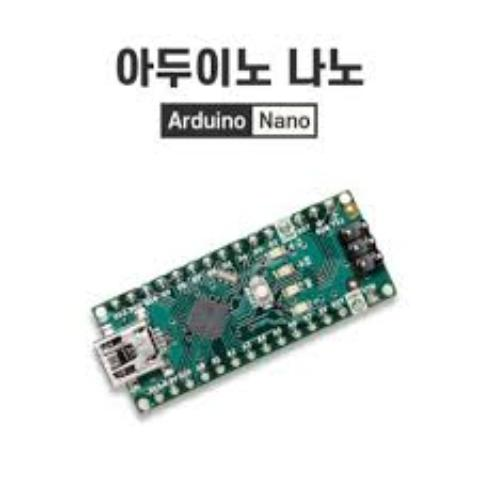Arduino-Nano: (82, 180, 407, 426)
